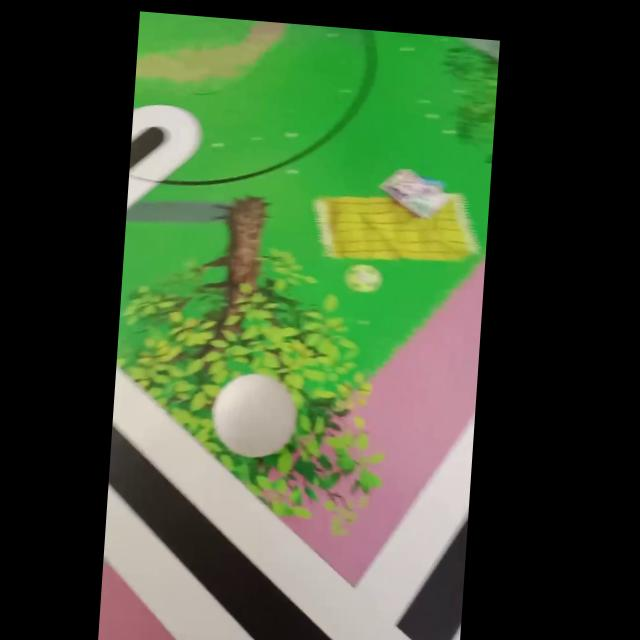white ball: (208, 368, 300, 461)
